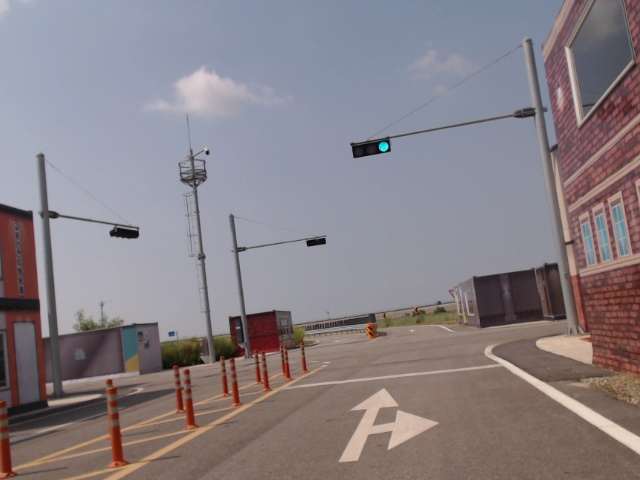green_3: (353, 138, 392, 159)
